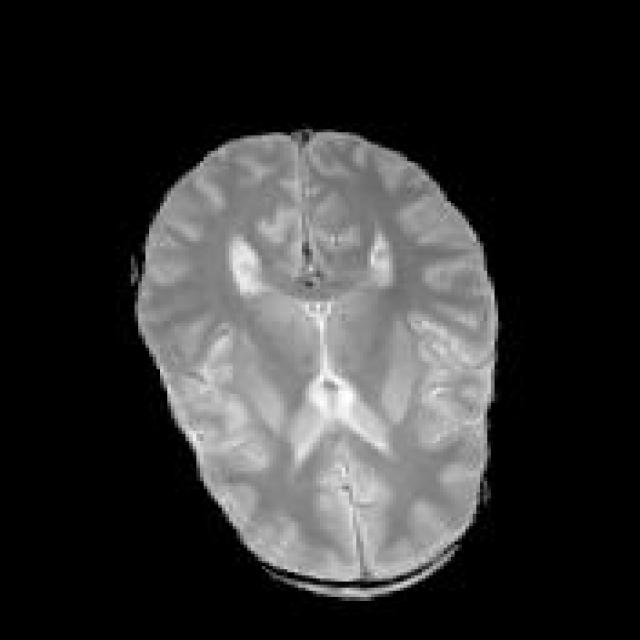CONTROL: (131, 123, 502, 597)
